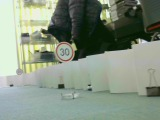speed_30: (55, 41, 75, 62)
